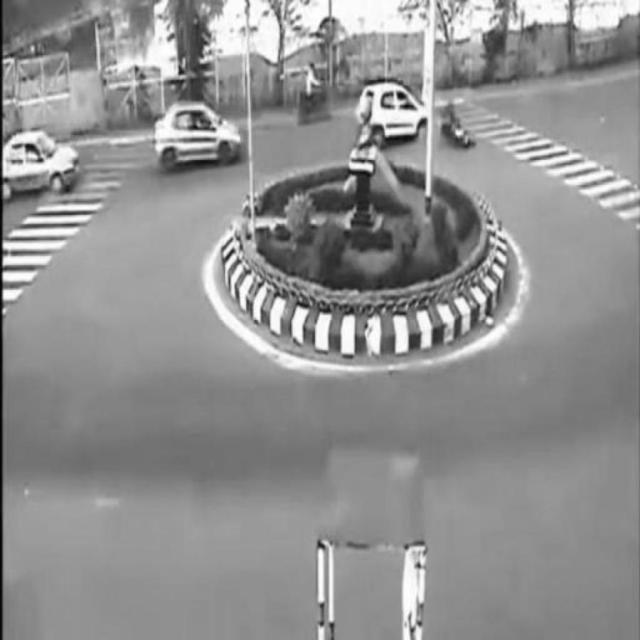accident: (362, 84, 475, 150)
vehicle: (155, 101, 243, 165), (5, 132, 78, 198), (293, 63, 331, 121)
